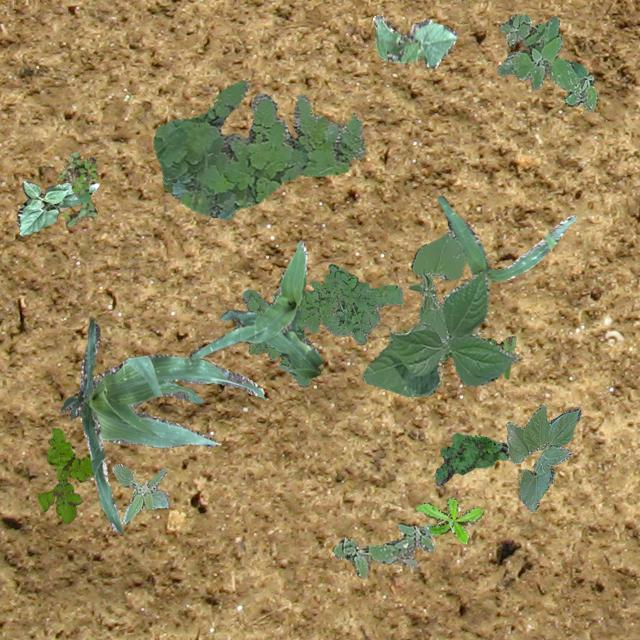crop: (60, 318, 262, 534), (362, 270, 516, 396), (188, 240, 322, 378), (436, 195, 576, 282), (504, 404, 580, 510), (408, 230, 464, 340), (372, 13, 456, 68), (16, 180, 98, 236)
weed: (153, 80, 364, 218), (240, 264, 402, 386), (496, 12, 596, 110), (396, 328, 514, 378), (332, 522, 434, 578), (36, 426, 94, 524), (434, 432, 506, 486), (112, 464, 168, 524), (56, 150, 96, 226), (416, 496, 482, 542)
